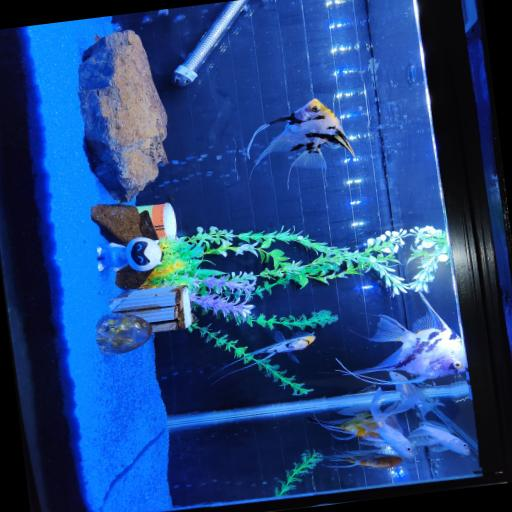Fish: (337, 291, 465, 383), (246, 98, 353, 173), (211, 331, 314, 381), (369, 387, 419, 457), (307, 411, 382, 444), (409, 421, 468, 454), (394, 383, 442, 418), (322, 450, 401, 468)
